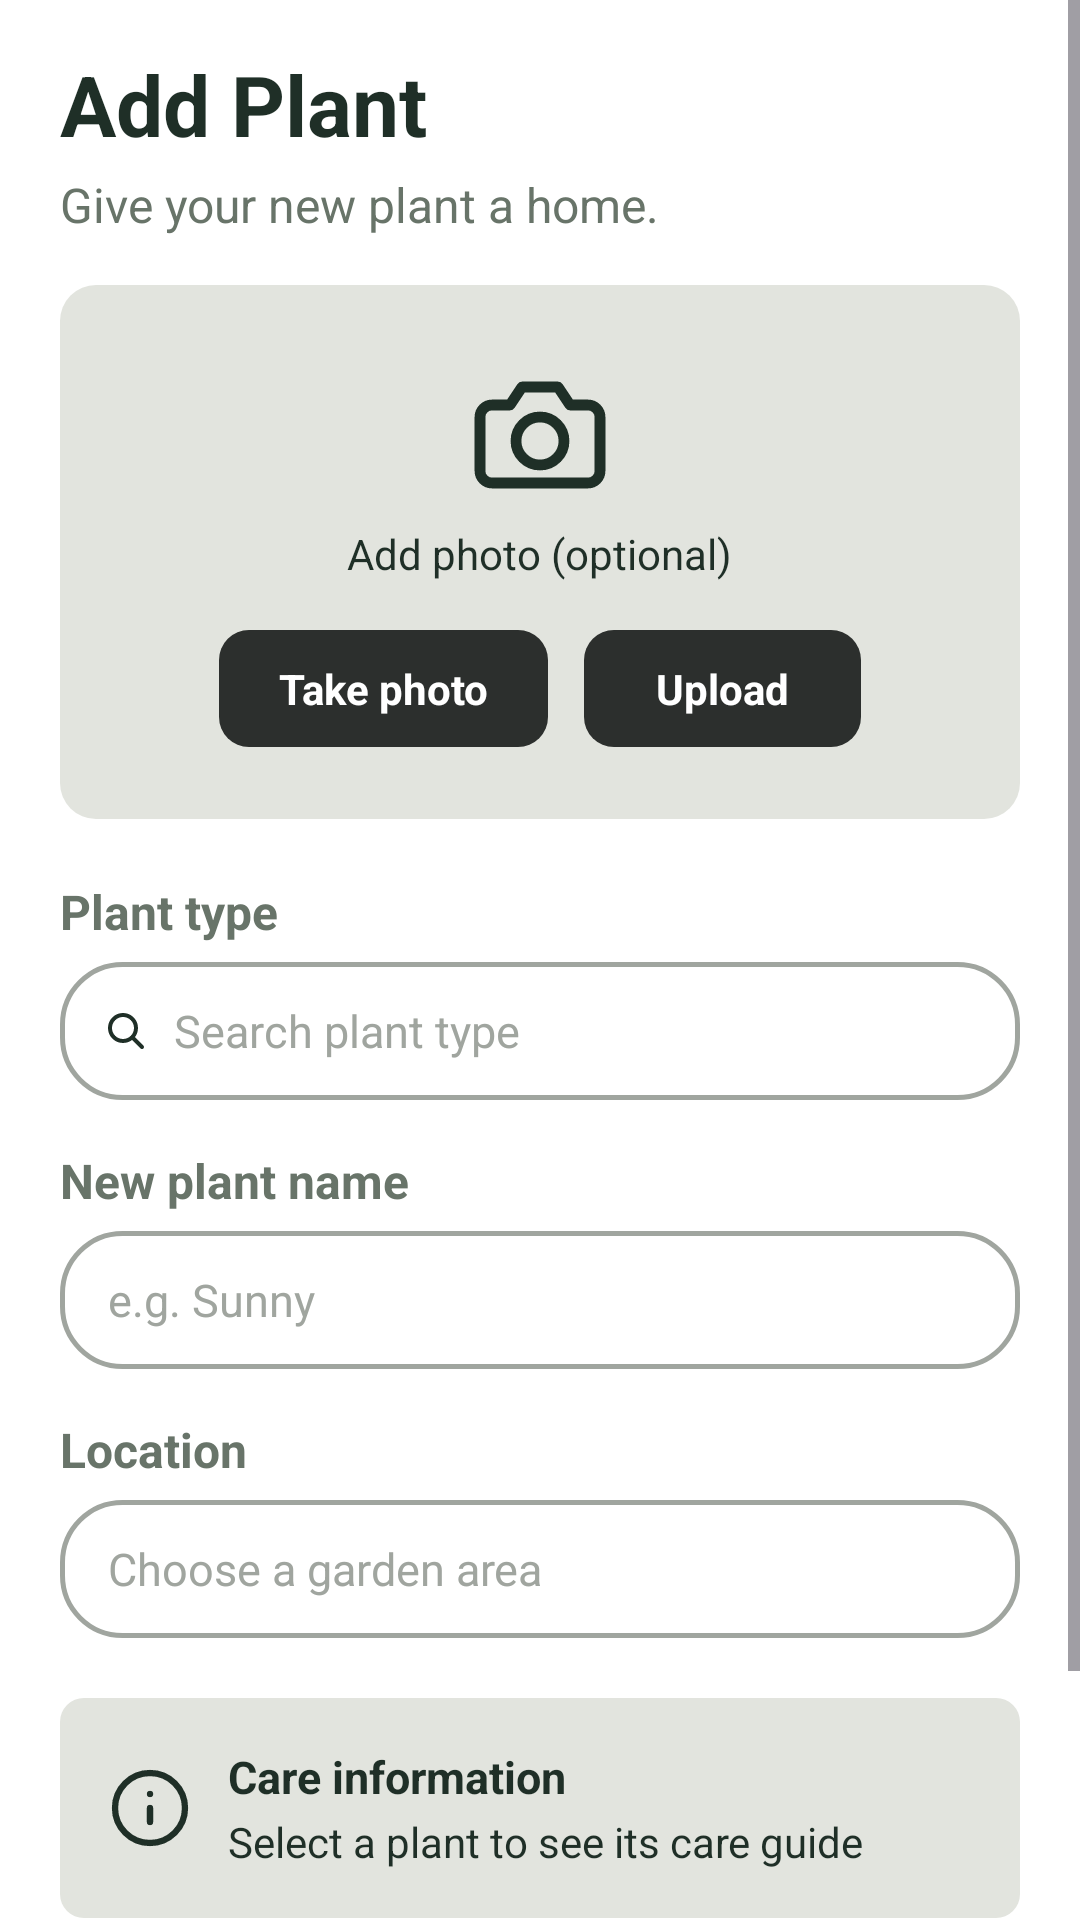

Icon bounding boxes for this 1080*1920 phone screenshot, format (x1, y1, x2, y2):
Camera icon: (474, 381, 606, 489)
Info icon: (112, 1770, 188, 1846)
